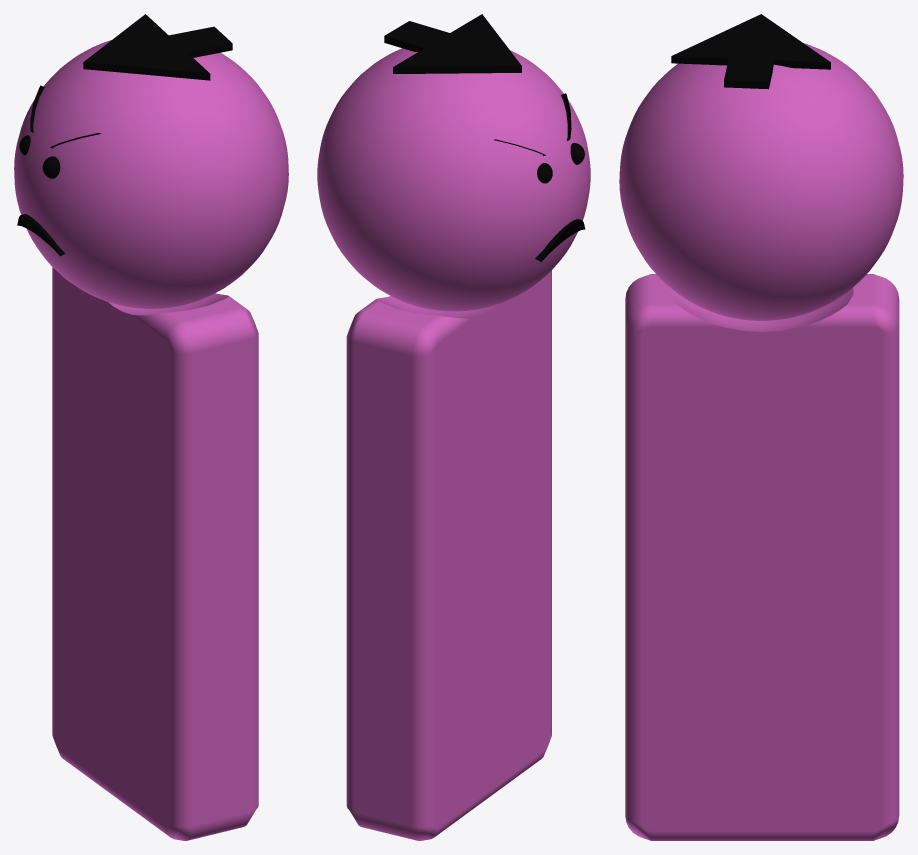
File: pink_angry.obj
The picture shows the model from 3 angles, left to right: view 1: azimuth 30°, elevation 25°; view 2: azimuth 150°, elevation 25°; view 3: azimuth 270°, elevation 25°; orthographic projection. The views are drawn at different scales.
Parts seen in each view (by area): view 1: 1_Curve.002_Curve.003, 5.002_Curve.002_Curve.003_5.002_Curve.002_Curve.003; view 2: 1_Curve.002_Curve.003, 5.002_Curve.002_Curve.003_5.002_Curve.002_Curve.003; view 3: 1_Curve.002_Curve.003, 5.002_Curve.002_Curve.003_5.002_Curve.002_Curve.003.
Part boxes in pixels (x1,y1,x2,y2): 1_Curve.002_Curve.003: [14, 40, 288, 840]; 5.002_Curve.002_Curve.003_5.002_Curve.002_Curve.003: [17, 14, 232, 256]; 1_Curve.002_Curve.003: [317, 48, 590, 840]; 5.002_Curve.002_Curve.003_5.002_Curve.002_Curve.003: [384, 14, 585, 261]; 1_Curve.002_Curve.003: [619, 43, 903, 840]; 5.002_Curve.002_Curve.003_5.002_Curve.002_Curve.003: [671, 14, 830, 89].
Size of the model in its own units: 0.1677 by 0.4993 by 0.1661.
